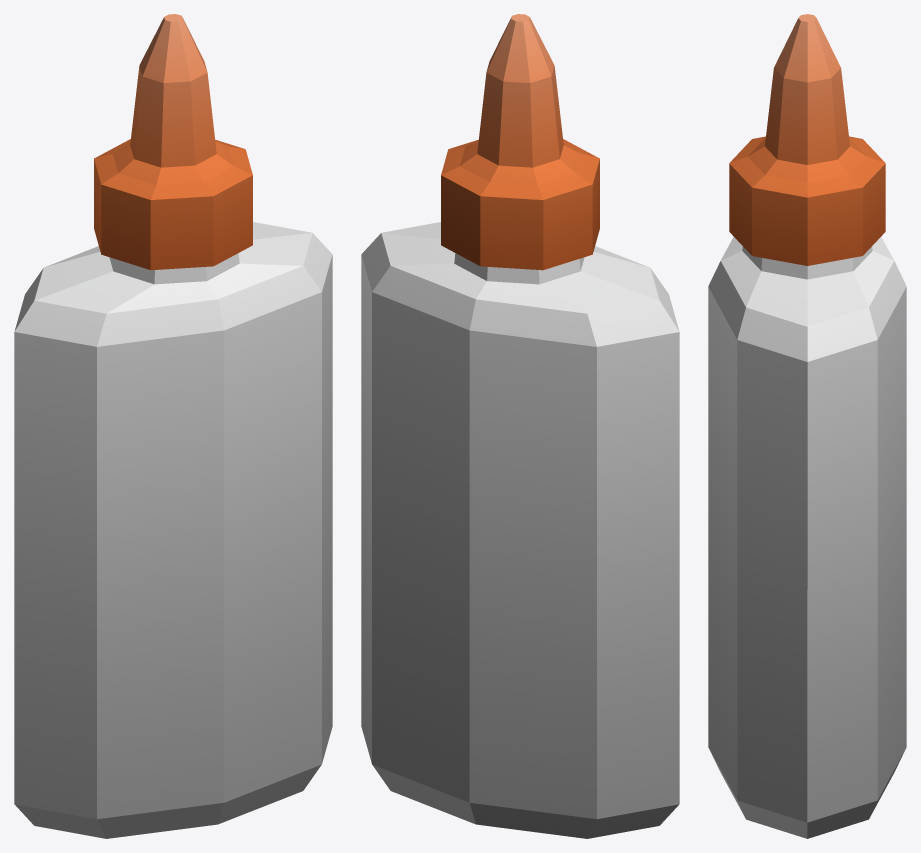
The model's file is klej.fbx.
The picture shows the model from 3 angles, left to right: view 1: azimuth 30°, elevation 25°; view 2: azimuth 150°, elevation 25°; view 3: azimuth 270°, elevation 25°; orthographic projection. The views are drawn at different scales.
Parts seen in each view (by area): view 1: Circle; view 2: Circle; view 3: Circle.
Part boxes in pixels (x1,y1,x2,y2): Circle: (14,14,332,838); Circle: (361,14,679,838); Circle: (708,14,906,838).
Bounding box in the file's own units: 23.8 × 56.04 × 13.19.
